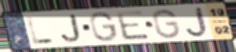E: (114, 9, 152, 41)
G: (89, 11, 119, 43), (152, 8, 182, 40)
J: (184, 6, 209, 39), (60, 13, 83, 44)
L: (26, 16, 56, 45)
